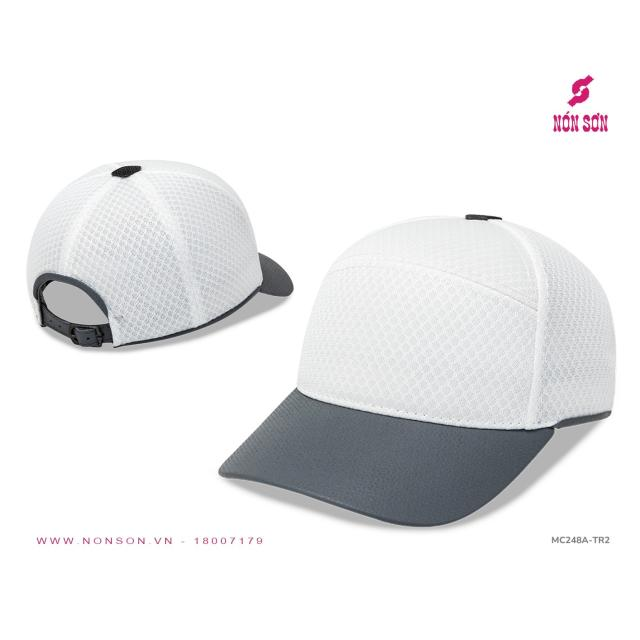Cap: (215, 209, 622, 534), (18, 155, 296, 351)
